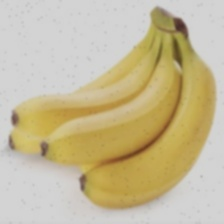banana: (0, 16, 189, 189)
